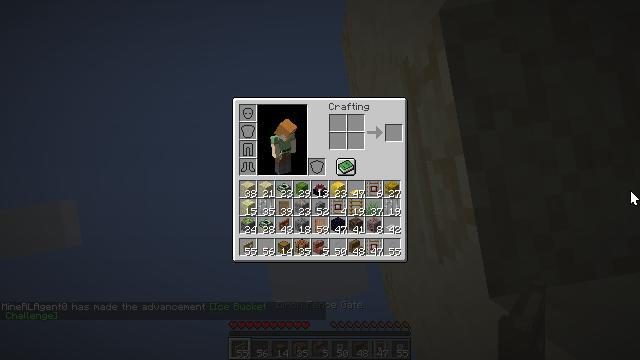cursor: (630, 190, 640, 206)
